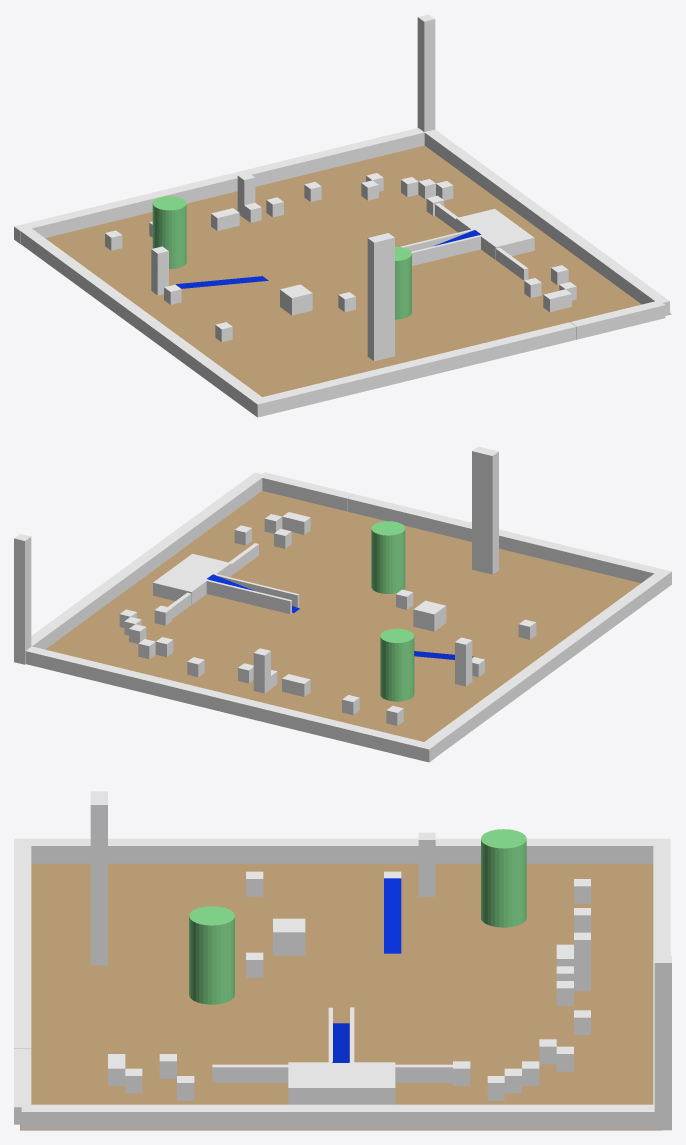
Rendered from debug_map02.glb.
3 views of the same model, one above another, from view 1: azimuth 30°, elevation 25°; view 2: azimuth 150°, elevation 25°; view 3: azimuth 270°, elevation 25° (orthographic). The views are drawn at different scales.
Parts seen in each view (by area): view 1: MazeFloor, Wall_10_1, Wall_26_18, Wall_30_28.001, Wall_0_0.002, Wall_0_0.001, Wall_28_19.001, Wall_29_12, Wall_1_20, Wall_14_29; view 2: MazeFloor, Wall_10_1, Wall_0_0.002, Wall_0_0.001, Wall_26_18, Wall_30_28.001, Wall_28_19, Wall_29_12, Wall_1_20, Wall_14_29, Wall_28_19.001; view 3: MazeFloor, Wall_26_18, Wall_0_0.001, Wall_0_0.002, Wall_30_28.001, Wall_10_1, Wall_26_7, Wall_Slope_Test.001, Wall_29_12, Wall_1_20, Wall_26_7.001, Wall_14_29 (+1 smaller).
Boxes of the visible parts, box(x1,y1,x2,y2) form: MazeFloor: box(45, 145, 671, 396); Wall_10_1: box(367, 233, 394, 361); Wall_26_18: box(456, 209, 534, 259); Wall_30_28.001: box(417, 14, 435, 131); Wall_0_0.002: box(152, 196, 186, 268); Wall_0_0.001: box(395, 246, 411, 319); Wall_28_19.001: box(411, 233, 486, 265); Wall_29_12: box(280, 284, 312, 315); Wall_1_20: box(151, 246, 168, 295); Wall_14_29: box(237, 173, 255, 217); MazeFloor: box(45, 491, 640, 741); Wall_10_1: box(472, 446, 498, 574); Wall_0_0.002: box(380, 628, 414, 701); Wall_0_0.001: box(371, 521, 405, 593); Wall_26_18: box(153, 553, 231, 604); Wall_30_28.001: box(14, 534, 31, 664); Wall_28_19: box(194, 576, 291, 614); Wall_29_12: box(413, 600, 446, 631); Wall_1_20: box(455, 637, 472, 686); Wall_14_29: box(253, 648, 270, 693); Wall_28_19.001: box(201, 571, 299, 607); MazeFloor: box(20, 863, 661, 1130); Wall_26_18: box(288, 1062, 395, 1104); Wall_0_0.001: box(189, 906, 234, 1004); Wall_0_0.002: box(481, 829, 526, 927); Wall_30_28.001: box(654, 955, 671, 1130); Wall_10_1: box(90, 791, 107, 965); Wall_26_7: box(212, 1064, 288, 1082); Wall_Slope_Test.001: box(384, 878, 401, 953); Wall_29_12: box(273, 918, 305, 955); Wall_1_20: box(418, 832, 435, 896); Wall_26_7.001: box(395, 1064, 452, 1082); Wall_14_29: box(574, 932, 590, 991).
Size of the model in its own units: 301 by 105 by 305.
